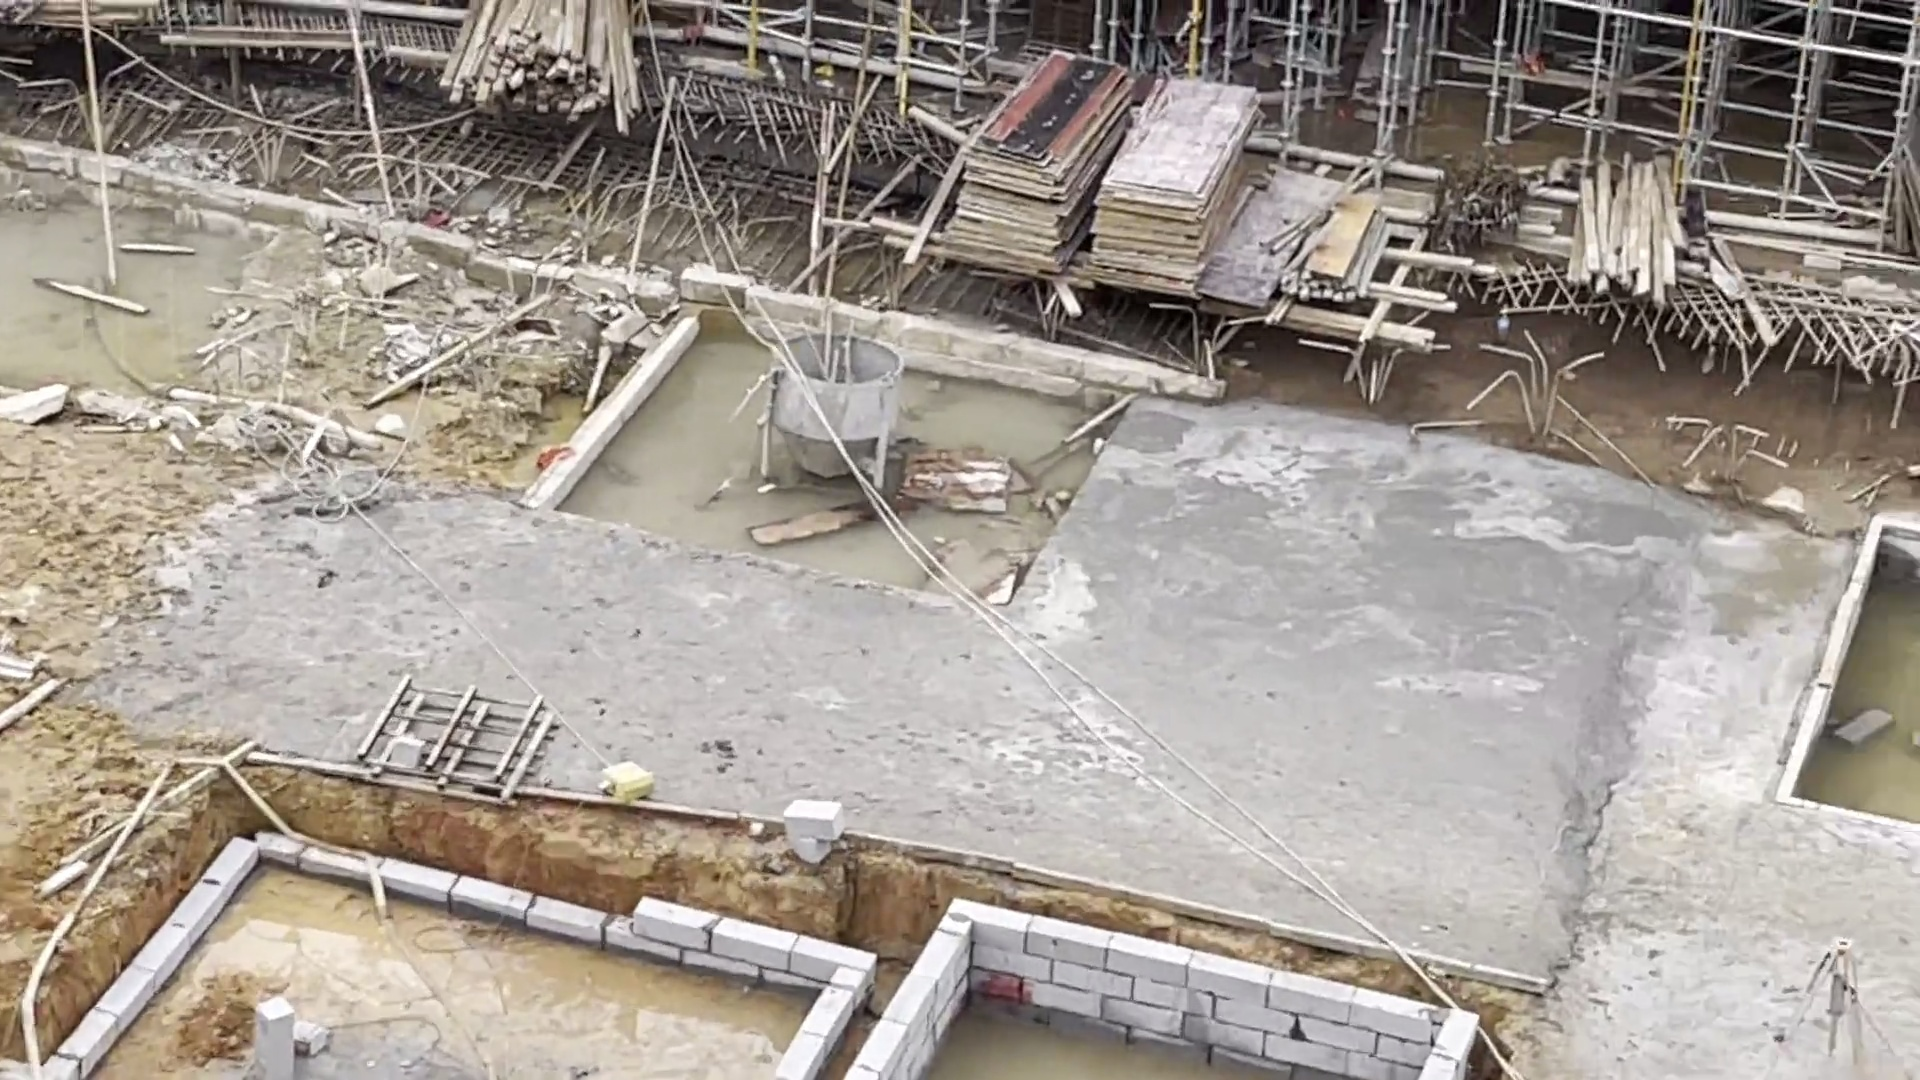board: (938, 51, 1133, 272), (1084, 80, 1266, 290)
wood: (440, 1, 649, 135), (1564, 152, 1691, 301)
